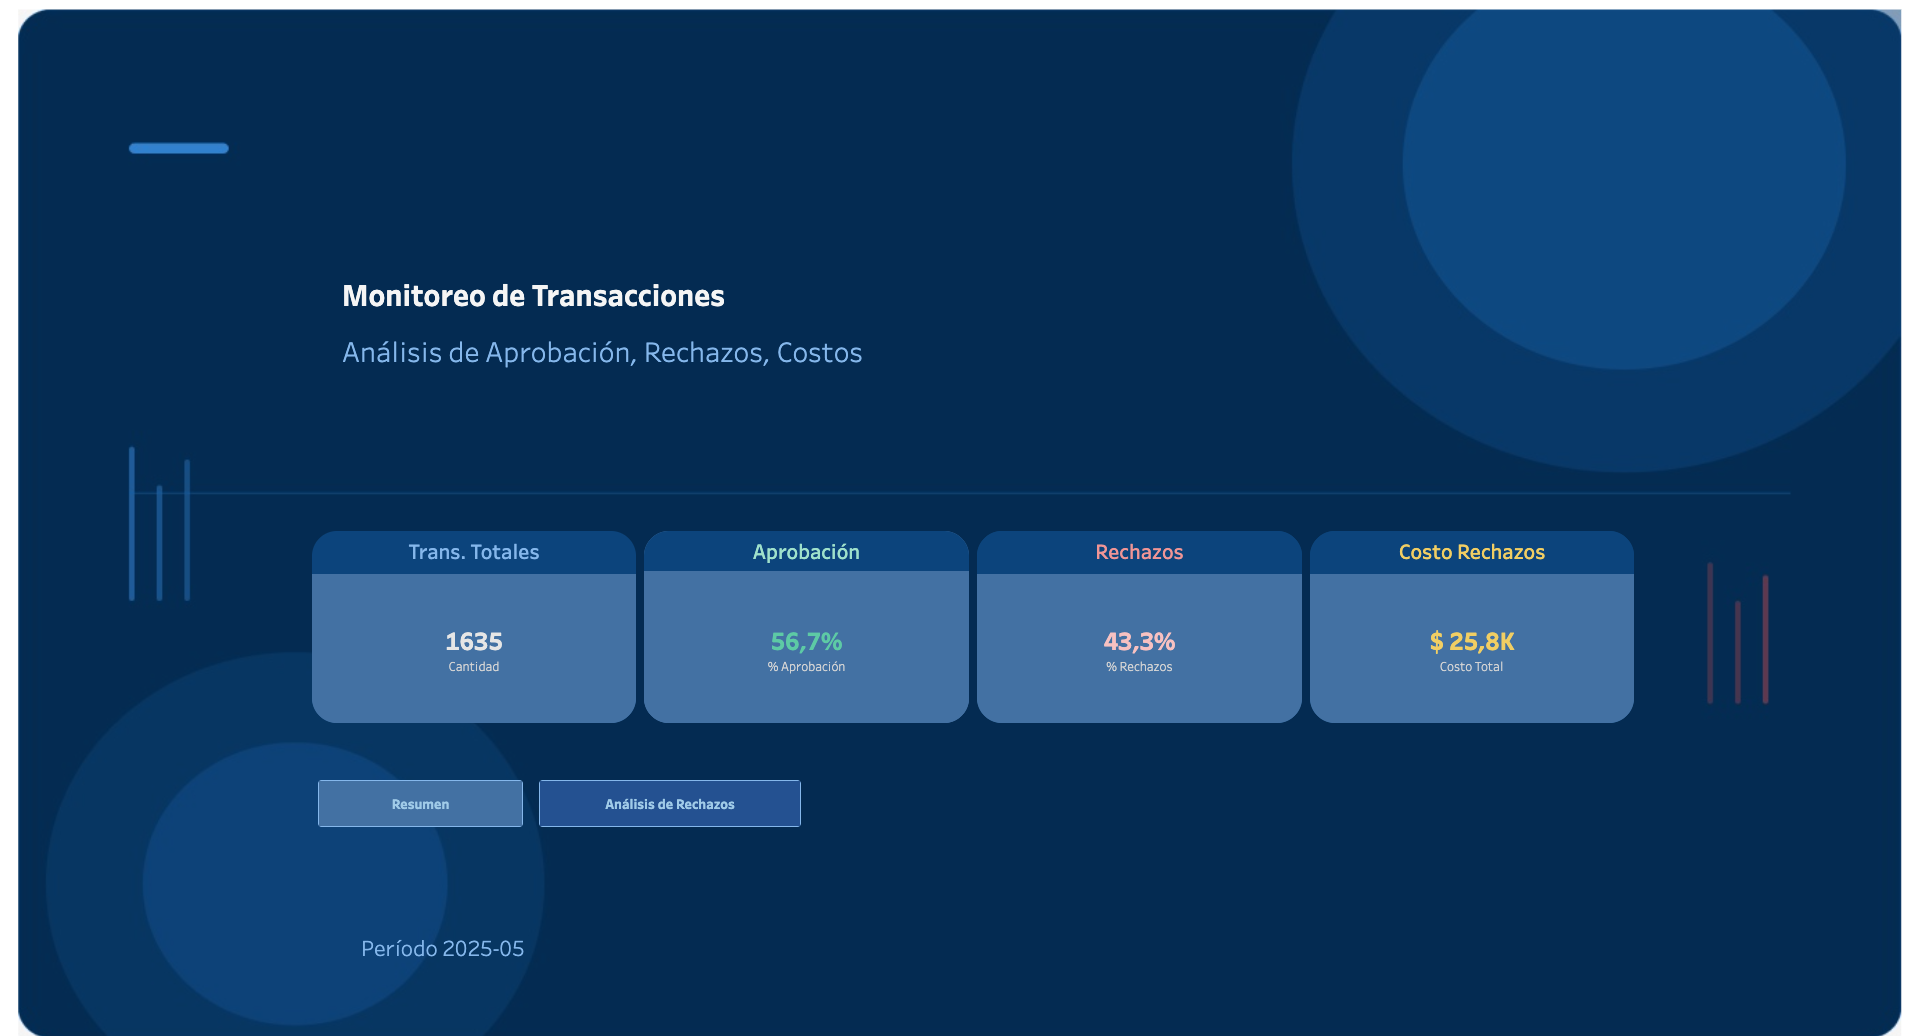

Layout of this report page (visuals, bound fields, positions):
{"tool":"tableau","page":{"name":"Portada","canvas":[1000,1000],"units":"permille","ordinal":2},"visuals":[{"type":"image","param":"Image/Portada (2).png","box":[6.4,11.2,987.3,977.6]},{"type":"text","box":[177.9,204.8,486.9,206.2]},{"type":"worksheet","title":"Trx totales portada","mark":"Automatic","box":[160.3,503.5,172.8,189.3]},{"type":"worksheet","title":"% aprobacion portada","mark":"Automatic","box":[333.2,503.5,173.6,189.3]},{"type":"worksheet","title":"% rechazos portada","mark":"Automatic","box":[506.8,503.5,172.8,189.3]},{"type":"worksheet","title":"Costo portada","mark":"Automatic","box":[679.6,503.5,173.6,189.3]},{"type":"dashboard-object","box":[165.4,743.3,106.9,44.9]},{"type":"dashboard-object","box":[280.8,743.3,136.6,44.9]},{"type":"text","box":[188.2,876.6,332.8,53.3]}]}

Visuals, with their boxes on the dashboard's canvas, which has no fixed pixel size, in thousandths of its width and height (x1, y1, x2, y2). These are canvas units, not pixel positions in the 1920x1036 screenshot, which may show the page scaled, cropped or inside an application window:
image: {"x1": 6, "y1": 11, "x2": 994, "y2": 989}
text: {"x1": 178, "y1": 205, "x2": 665, "y2": 411}
"Trx totales portada" worksheet: {"x1": 160, "y1": 504, "x2": 333, "y2": 693}
"% aprobacion portada" worksheet: {"x1": 333, "y1": 504, "x2": 507, "y2": 693}
"% rechazos portada" worksheet: {"x1": 507, "y1": 504, "x2": 680, "y2": 693}
"Costo portada" worksheet: {"x1": 680, "y1": 504, "x2": 853, "y2": 693}
dashboard-object: {"x1": 165, "y1": 743, "x2": 272, "y2": 788}
dashboard-object: {"x1": 281, "y1": 743, "x2": 417, "y2": 788}
text: {"x1": 188, "y1": 877, "x2": 521, "y2": 930}
